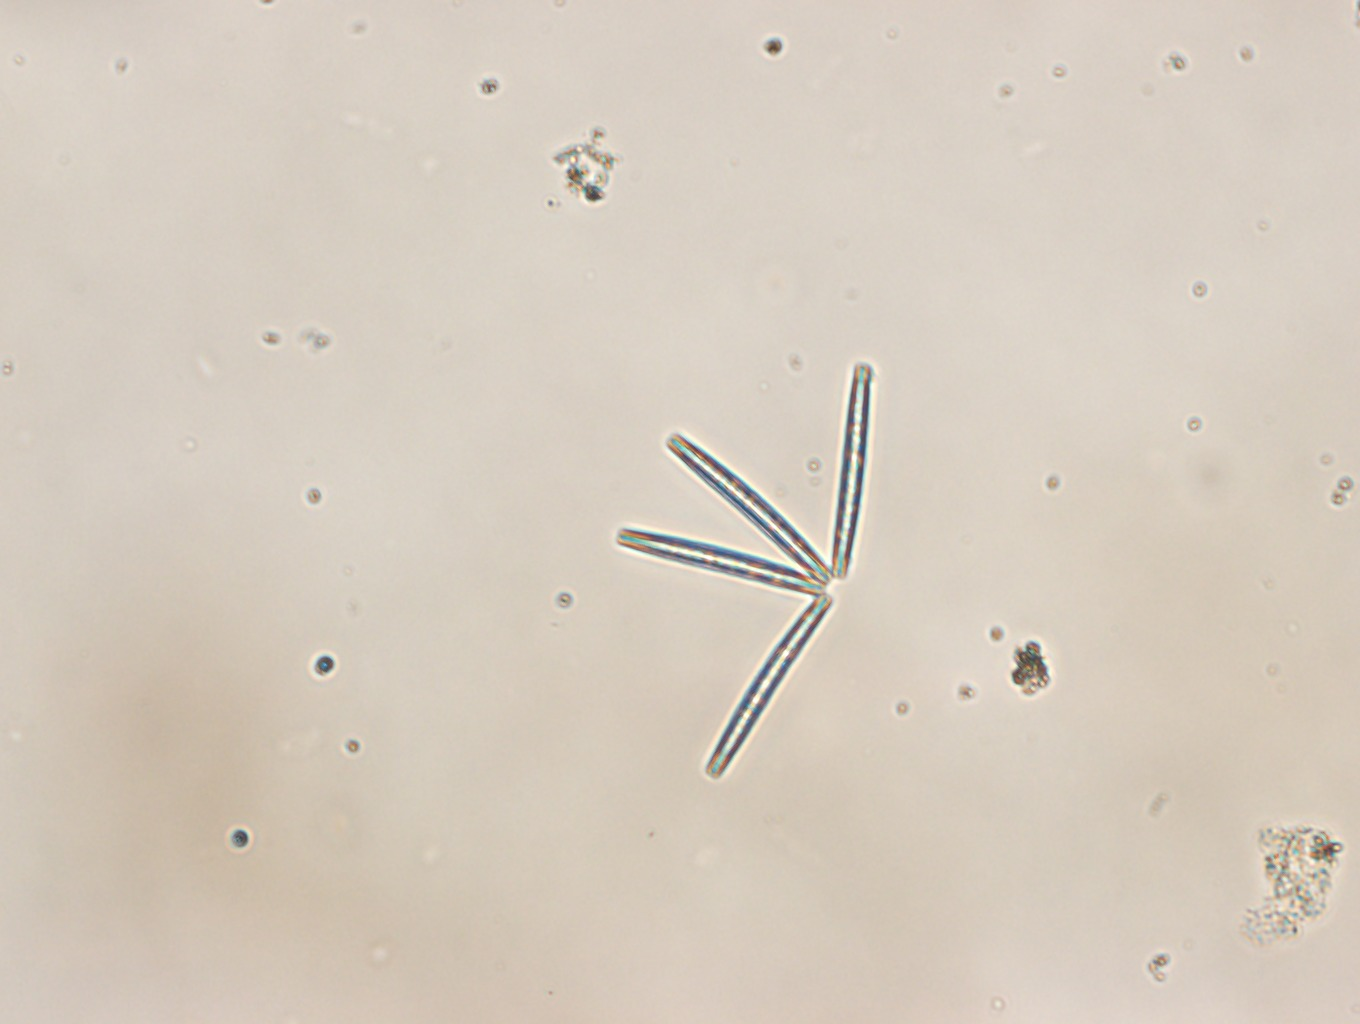thalassionema nitzschioides: (617, 358, 874, 780)
